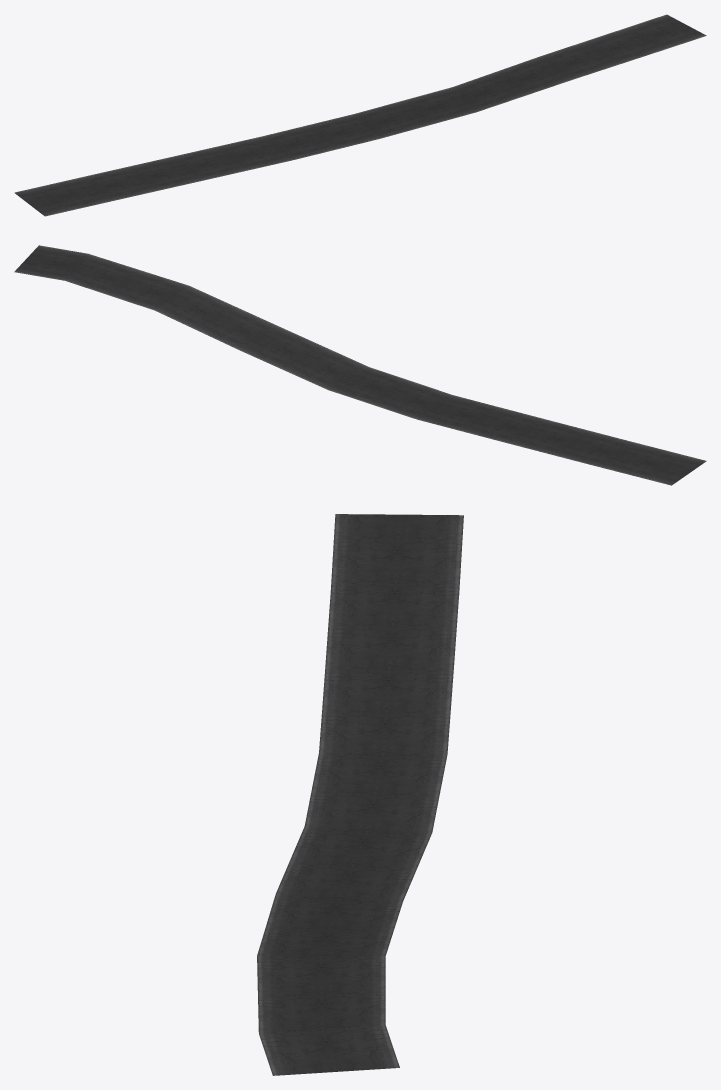
File: cs_roads13.obj
The picture shows the model from 3 angles, top to bottom: view 1: azimuth 30°, elevation 25°; view 2: azimuth 150°, elevation 25°; view 3: azimuth 270°, elevation 25°; orthographic projection. The views are drawn at different scales.
Visible parts, largest first — view 1: cs_roads13; view 2: cs_roads13; view 3: cs_roads13.
Part boxes in pixels (x1,y1,x2,y2): cs_roads13: (14,14,706,216); cs_roads13: (14,245,706,485); cs_roads13: (257,514,463,1075).
Size of the model in its own units: 139 by 7.16 by 19.31.
1 material, 1 textured.
